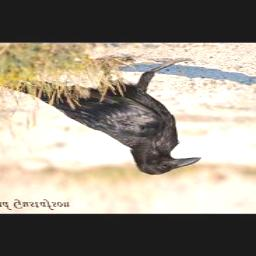Crow: (0, 57, 201, 176)
